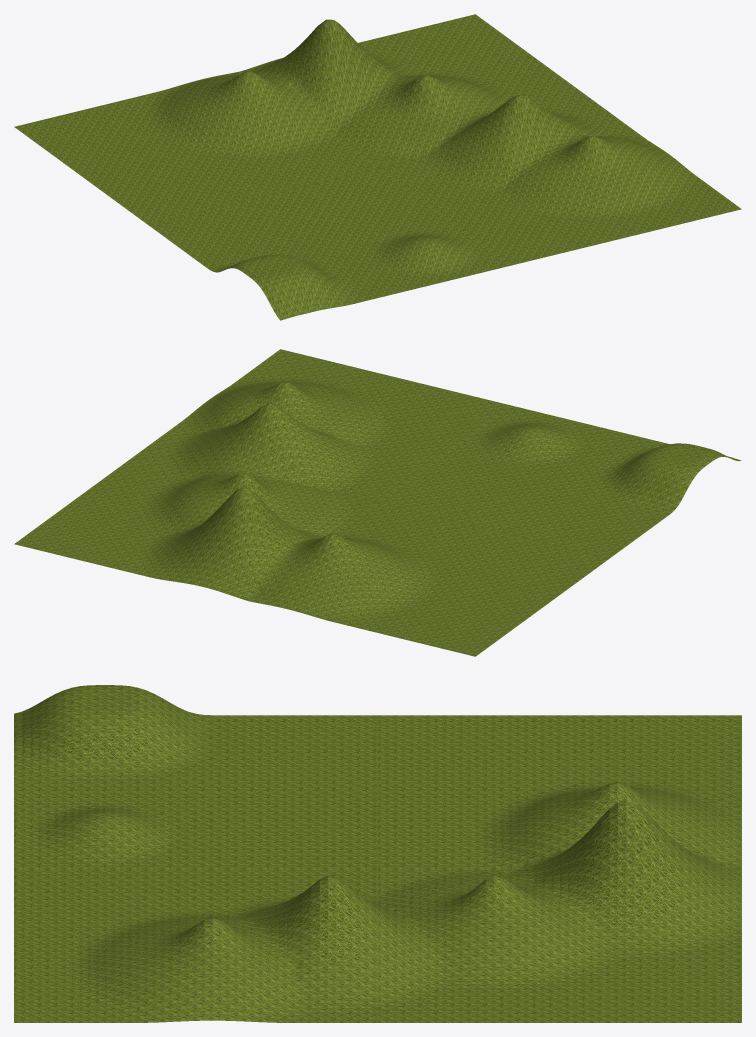
File: terrain.obj
3 renders of one model, top to bottom at view 1: azimuth 30°, elevation 25°; view 2: azimuth 150°, elevation 25°; view 3: azimuth 270°, elevation 25°, orthographic. The views are drawn at different scales.
Visible parts, largest first — view 1: terrain_Plane.002; view 2: terrain_Plane.002; view 3: terrain_Plane.002.
Part boxes in pixels (x1=…): terrain_Plane.002: x1=14, y1=14, x2=741, y2=320; terrain_Plane.002: x1=14, y1=349, x2=741, y2=656; terrain_Plane.002: x1=14, y1=685, x2=741, y2=1022.
Size of the model in its own units: 492 by 72.55 by 492.
